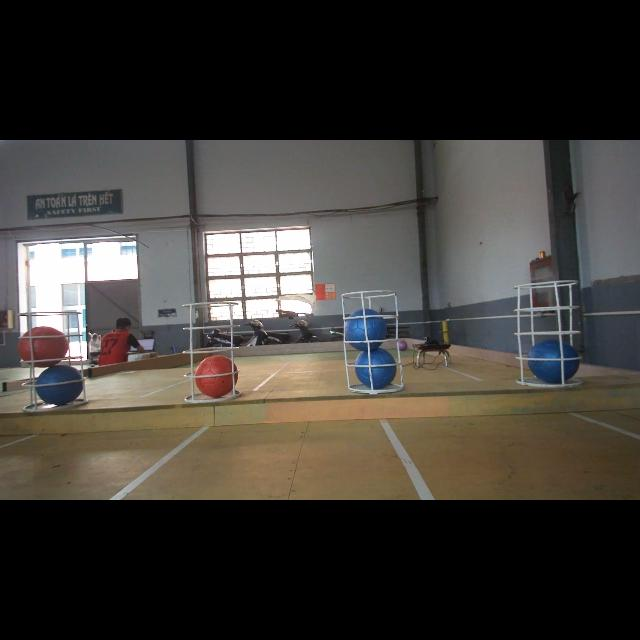B: (528, 340, 578, 382), (36, 364, 84, 406), (344, 308, 386, 350), (356, 348, 396, 390)
R: (19, 326, 69, 366), (196, 355, 240, 397)
